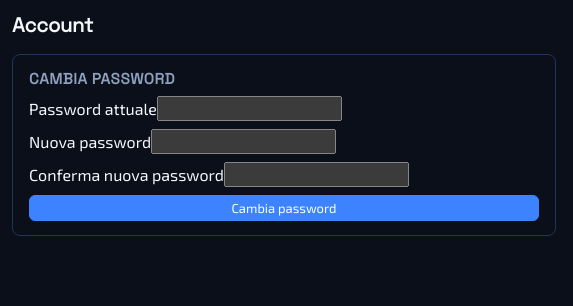
AccountPage › shows a generic message when the current password is wrong
The image size is (573, 306).
In the password field labelled "Password attuale": (249, 108) [157,96,342,121], type "wrong-password"
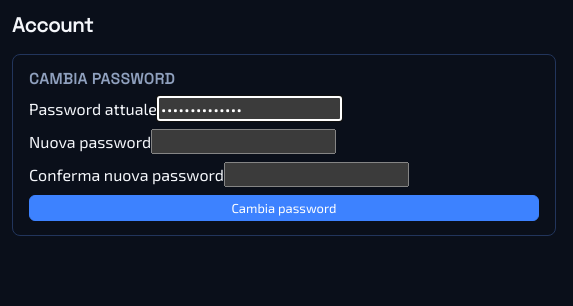
In the password field labelled "Nuova password": (244, 142) [151,129,336,154], type "brand-new-password-1"
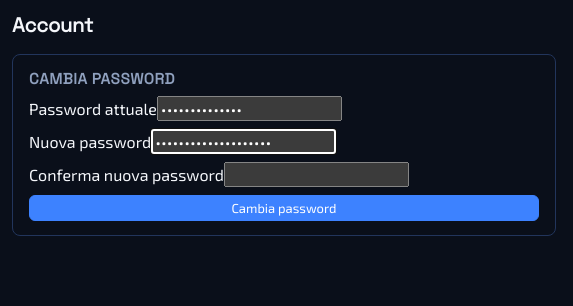
In the password field labelled "Conferma nuova password": (316, 174) [224,162,409,187], type "brand-new-password-1"
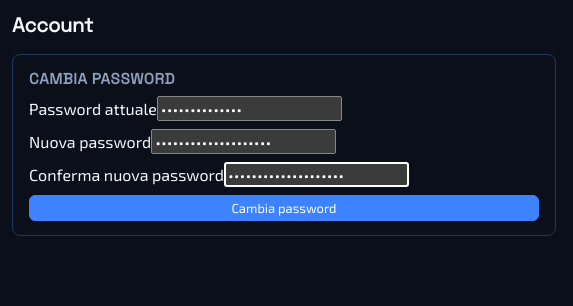
Click the button "Cambia password": (284, 208) [29,195,539,221]
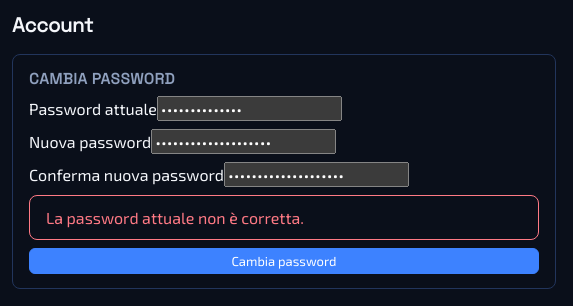
Result: the text "La password attuale non è corretta." is shown at [29,195,539,240]
